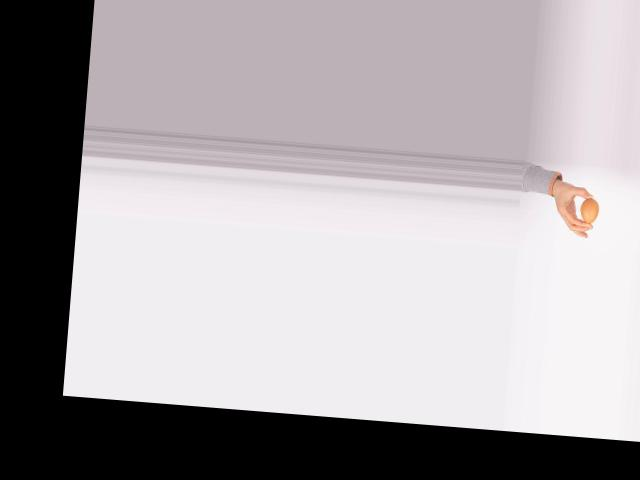egg: (580, 198, 600, 224)
